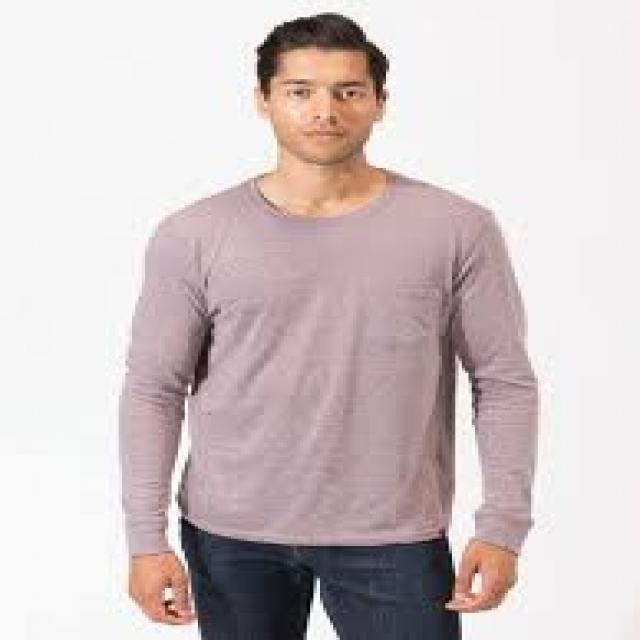plain: (120, 172, 543, 546)
